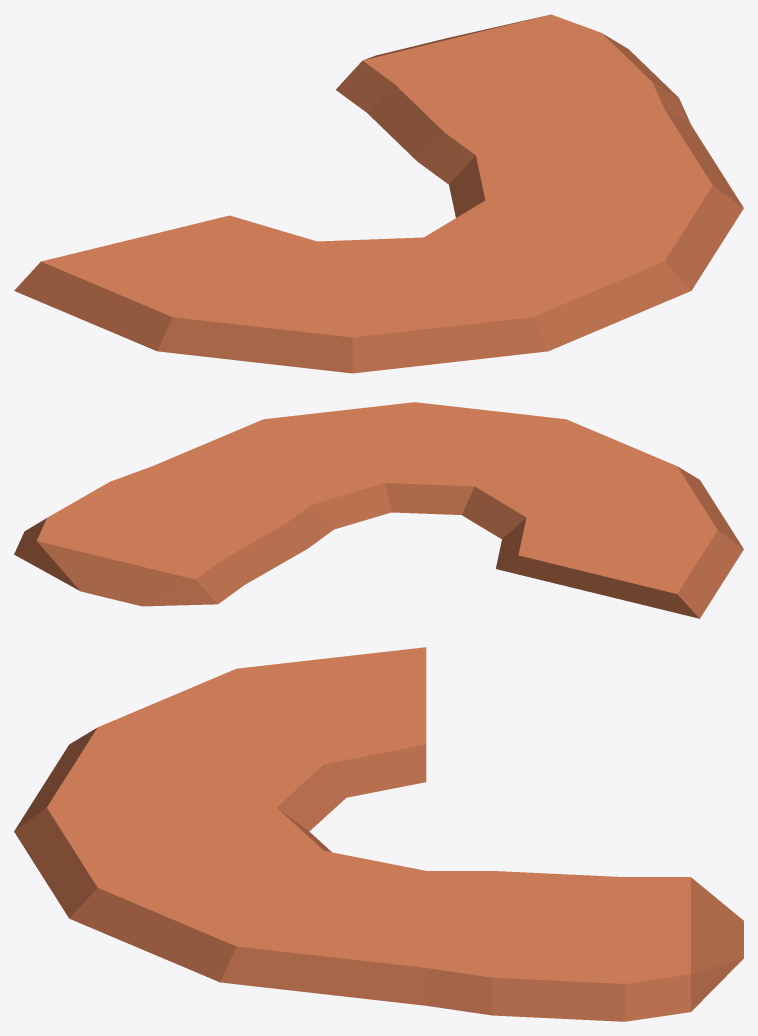
The model's file is crop_dirtcirclecorner.fbx.
The picture shows the model from 3 angles, top to bottom: view 1: azimuth 30°, elevation 25°; view 2: azimuth 150°, elevation 25°; view 3: azimuth 270°, elevation 25°; orthographic projection. The views are drawn at different scales.
Parts seen in each view (by area): view 1: crops_dirtRowCorner; view 2: crops_dirtRowCorner; view 3: crops_dirtRowCorner.
Boxes of the visible parts, x1,y1,x2,y2 form: crops_dirtRowCorner: (14, 14, 743, 373); crops_dirtRowCorner: (14, 402, 743, 618); crops_dirtRowCorner: (14, 647, 743, 1021).
Size of the model in its own units: 163 by 138 by 5.
